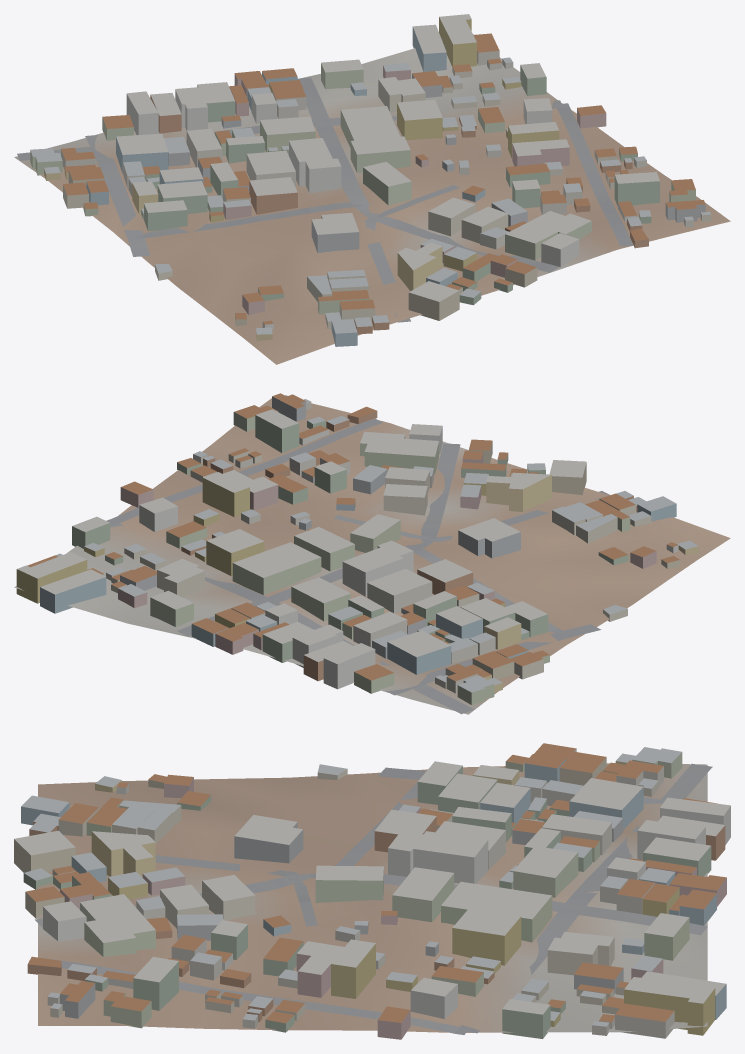
The picture shows the model from 3 angles, top to bottom: view 1: azimuth 30°, elevation 25°; view 2: azimuth 150°, elevation 25°; view 3: azimuth 270°, elevation 25°; orthographic projection. The views are drawn at different scales.
Parts seen in each view (by area): view 1: Lo; view 2: Lo; view 3: Lo.
Boxes of the visible parts, bbox=[...] form: Lo: bbox=[14, 14, 730, 364]; Lo: bbox=[14, 393, 730, 714]; Lo: bbox=[14, 743, 730, 1039].
Size of the model in its own units: 270 by 28.9 by 274.
